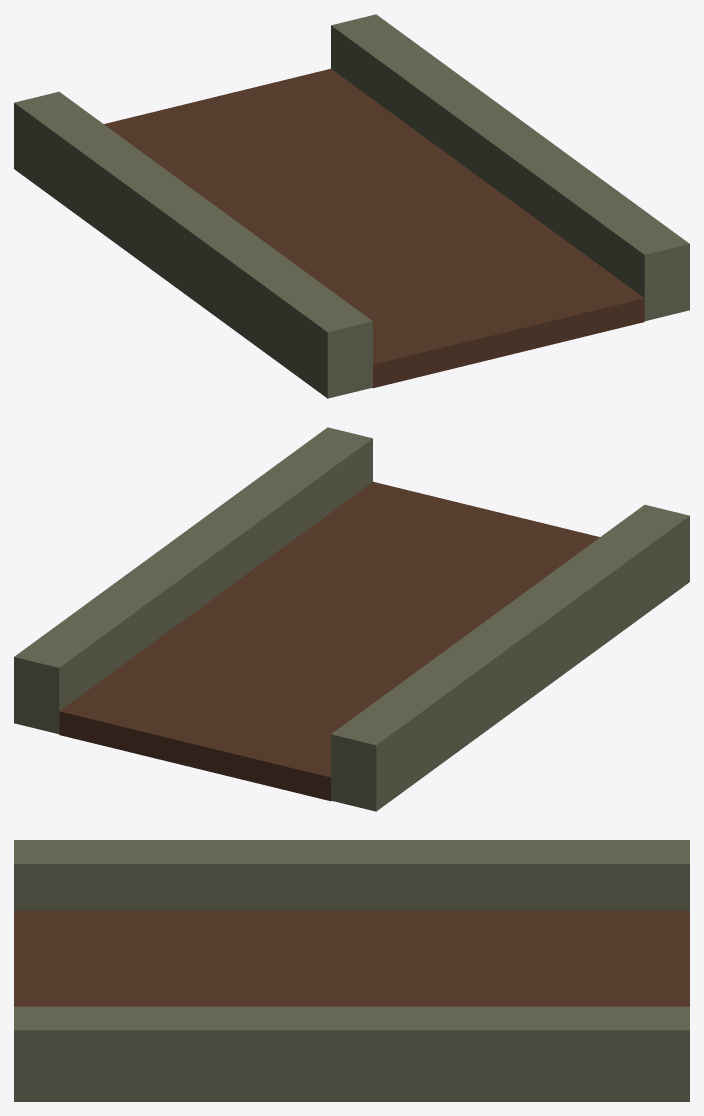
The model's file is bridge.fbx.
The picture shows the model from 3 angles, top to bottom: view 1: azimuth 30°, elevation 25°; view 2: azimuth 150°, elevation 25°; view 3: azimuth 270°, elevation 25°; orthographic projection. The views are drawn at different scales.
Parts seen in each view (by area): view 1: bridge; view 2: bridge; view 3: bridge.
Boxes of the visible parts, box(x1,y1,x2,y2) form: bridge: box(14, 14, 689, 398); bridge: box(14, 427, 689, 811); bridge: box(14, 840, 689, 1101).
Bounding box in the file's own units: 400 × 70.74 × 600.
